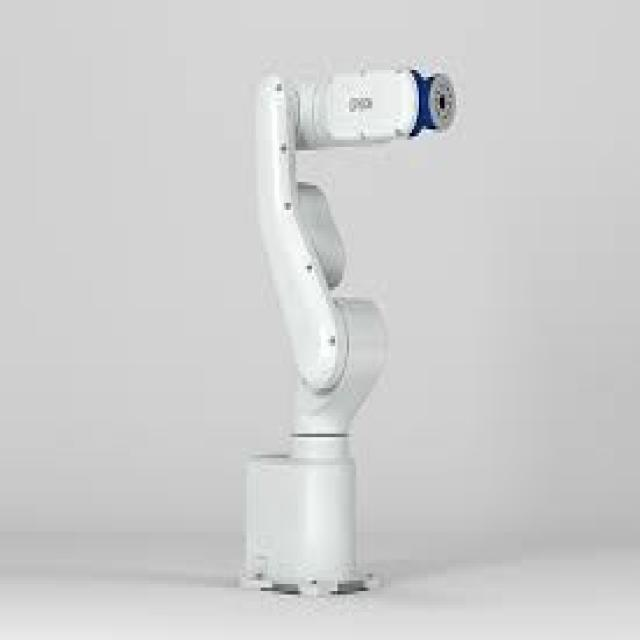Robotic-arm: (237, 57, 466, 603)
